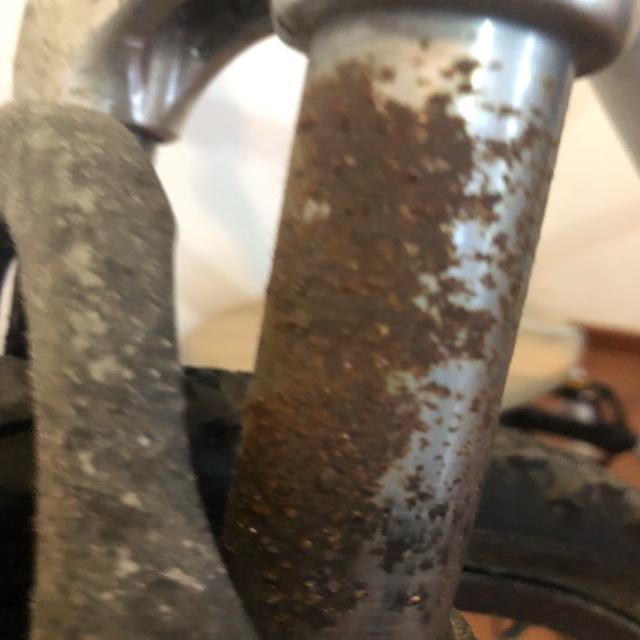corrosion: (221, 51, 570, 640)
